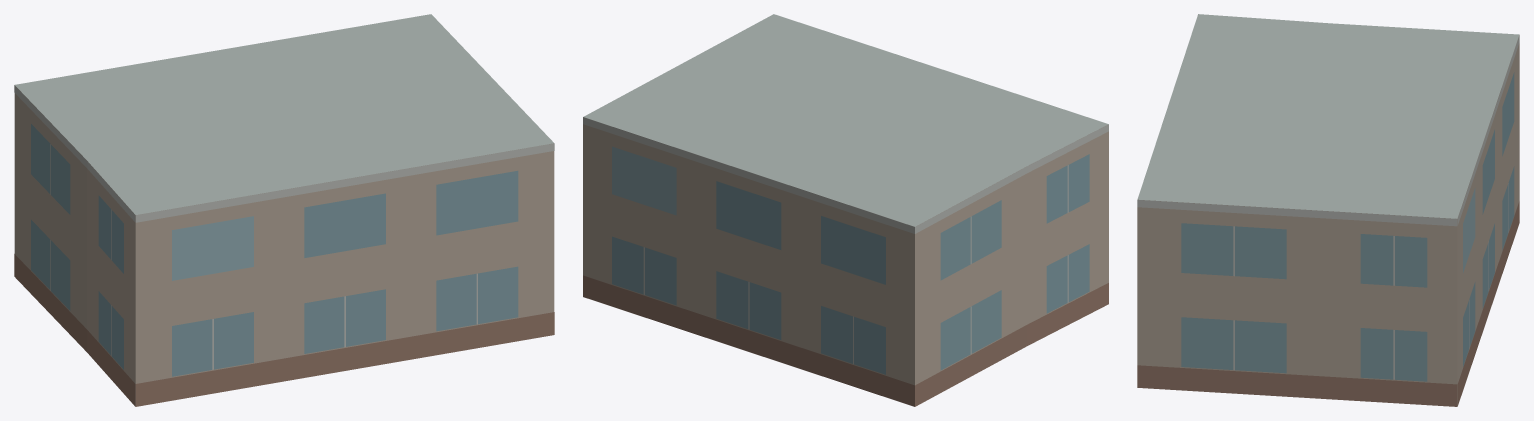
Rendered from survey-upis-32828234.glb.
3 views of the same model, side by side, from view 1: azimuth 30°, elevation 25°; view 2: azimuth 150°, elevation 25°; view 3: azimuth 270°, elevation 25° (orthographic). The views are drawn at different scales.
Visible parts, largest first — view 1: survey-upis-32828234.tmp; view 2: survey-upis-32828234.tmp; view 3: survey-upis-32828234.tmp.
Part boxes in pixels (<box>): survey-upis-32828234.tmp: <box>14,14,554,406</box>; survey-upis-32828234.tmp: <box>583,14,1108,406</box>; survey-upis-32828234.tmp: <box>1137,14,1519,406</box>.
Bounding box in the file's own units: 14.26 × 6.1 × 11.25.
